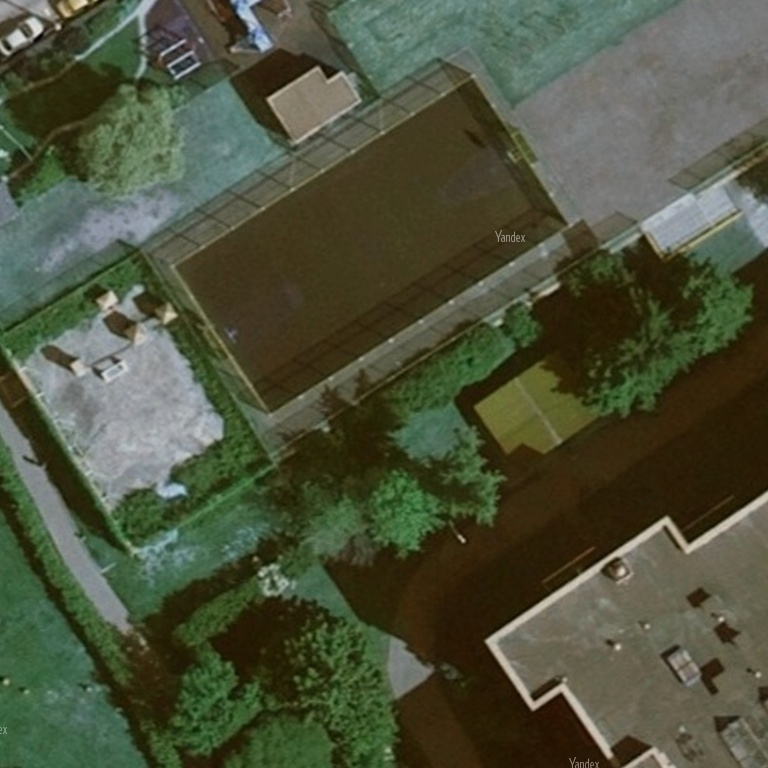basket_court: (136, 58, 596, 438)
